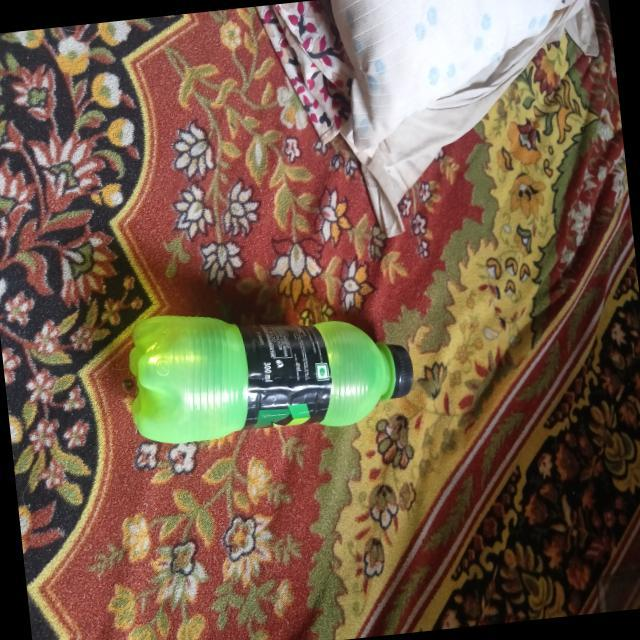good: (113, 288, 418, 462)
